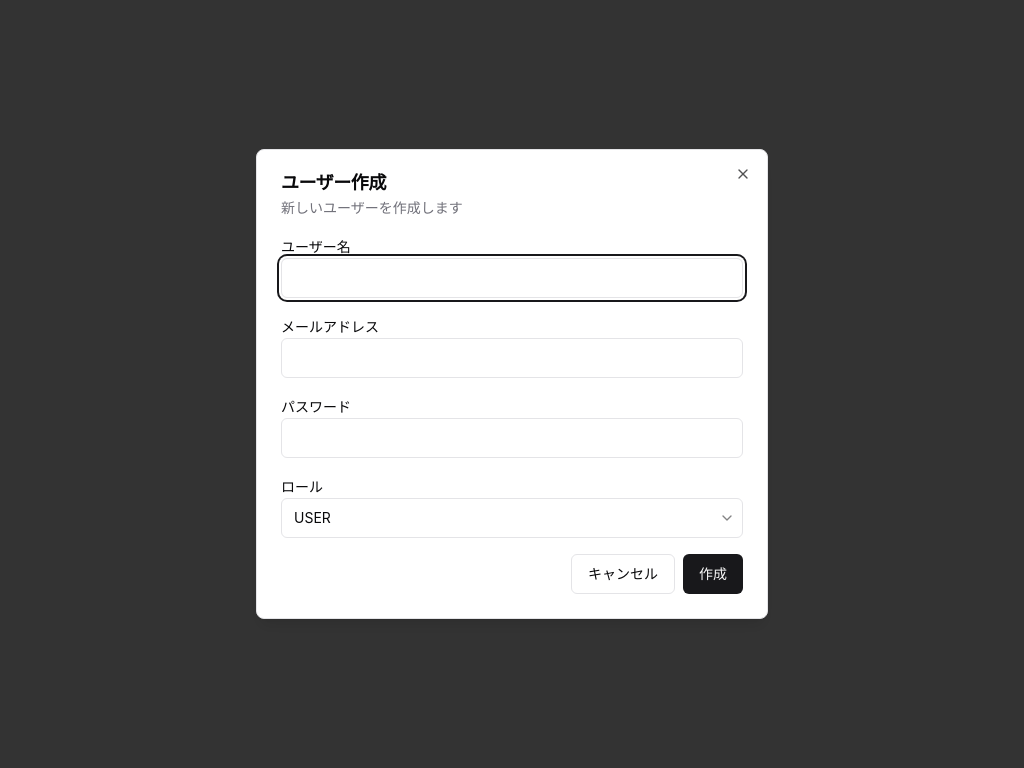
UserFormDialog: 作成モード › email バリデーションエラーを表示する
This screenshot has width=1024, height=768.
Step 1. Type "user" into the field labelled "ユーザー名" → (512, 278), box [281, 258, 743, 298]
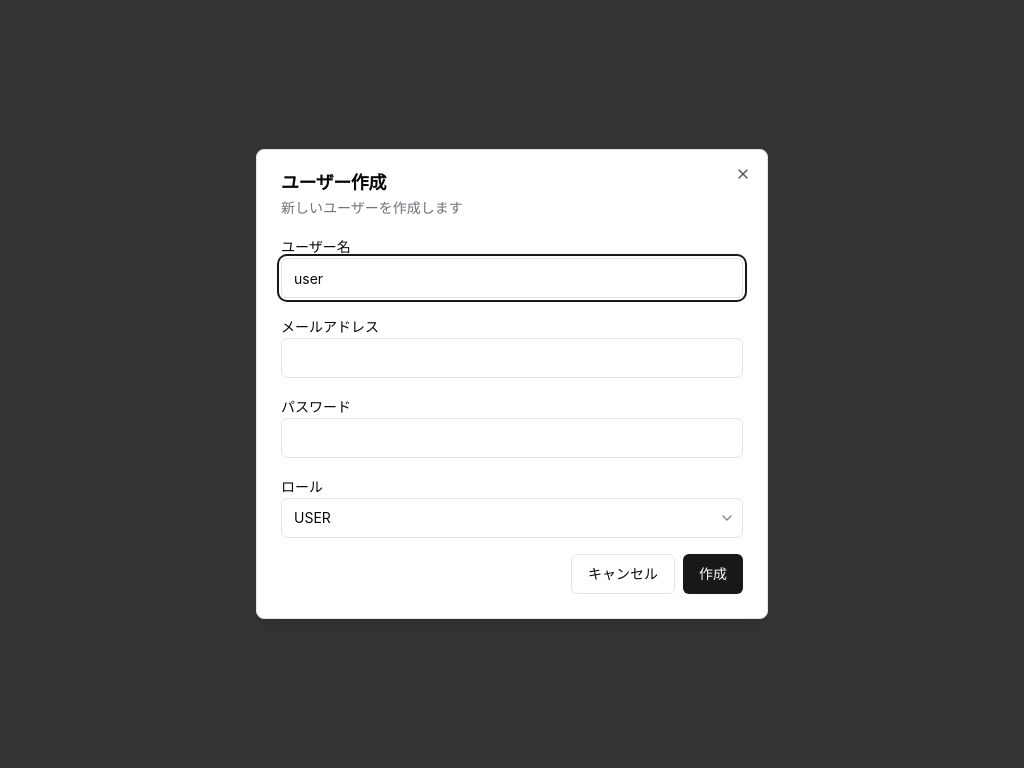
Step 2. Type "invalid" into the field labelled "メールアドレス" → (512, 358), box [281, 338, 743, 378]
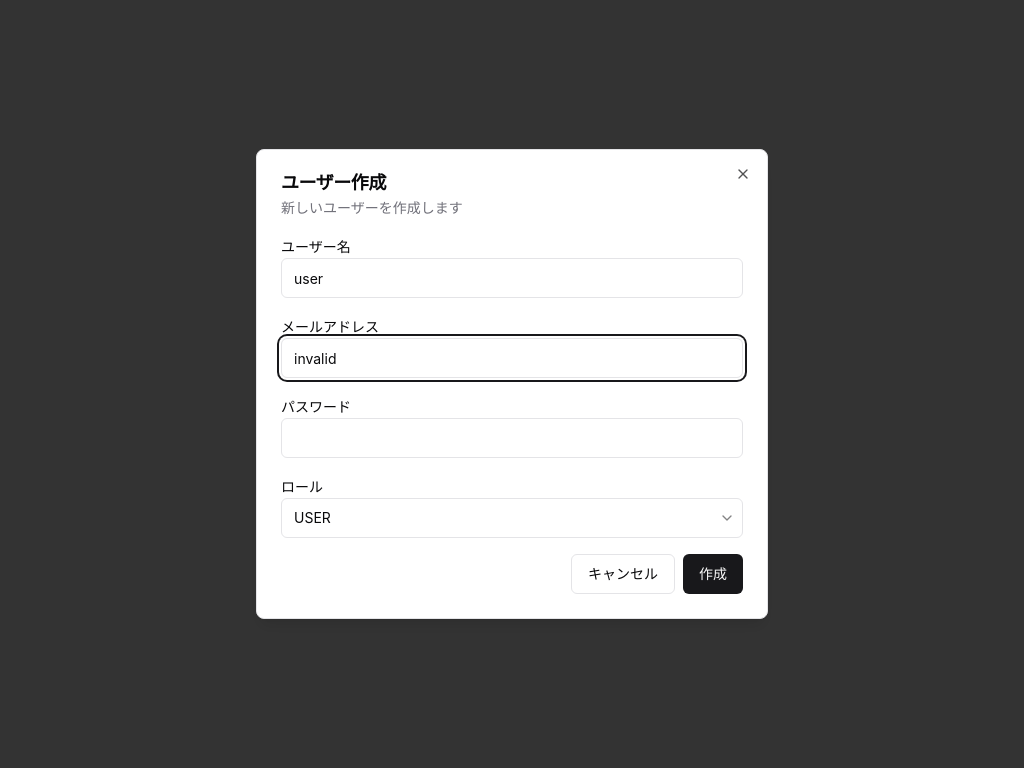
Step 3. Submit the form "作成", box [281, 234, 743, 594]
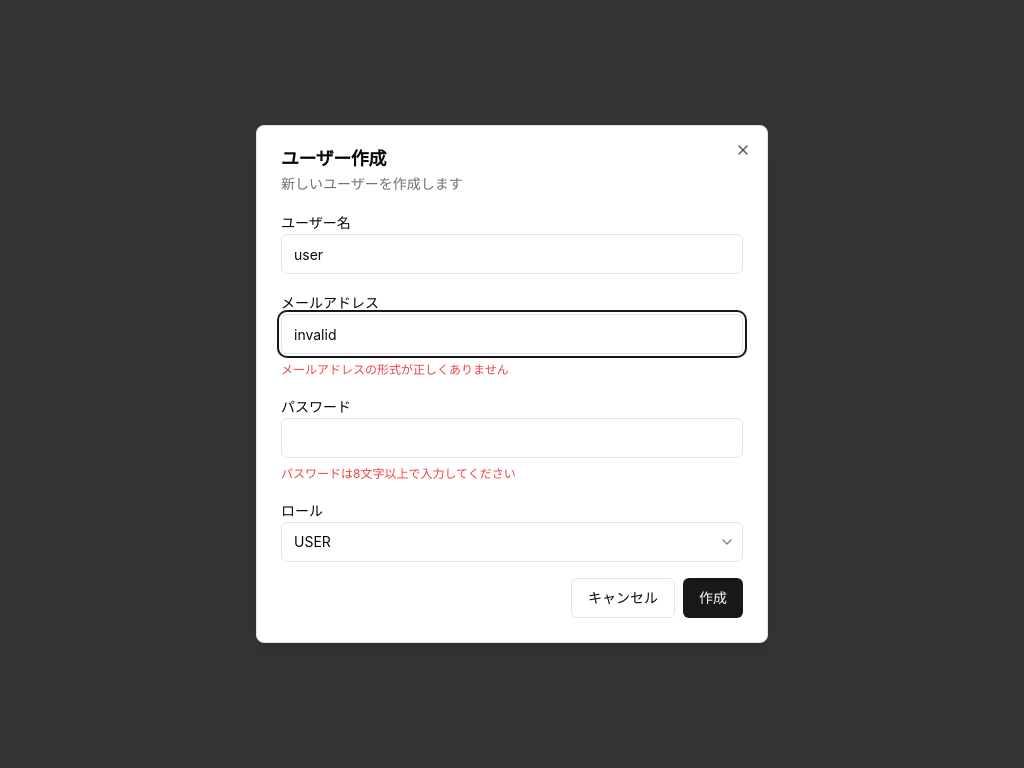
Expected: the text "メールアドレスの形式が正しくありません" is shown, [281, 362, 509, 377]
